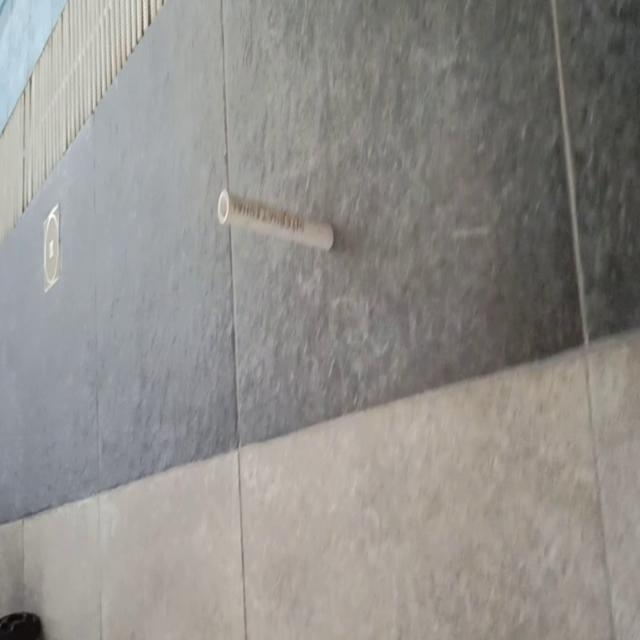Cube: (216, 187, 334, 253)
